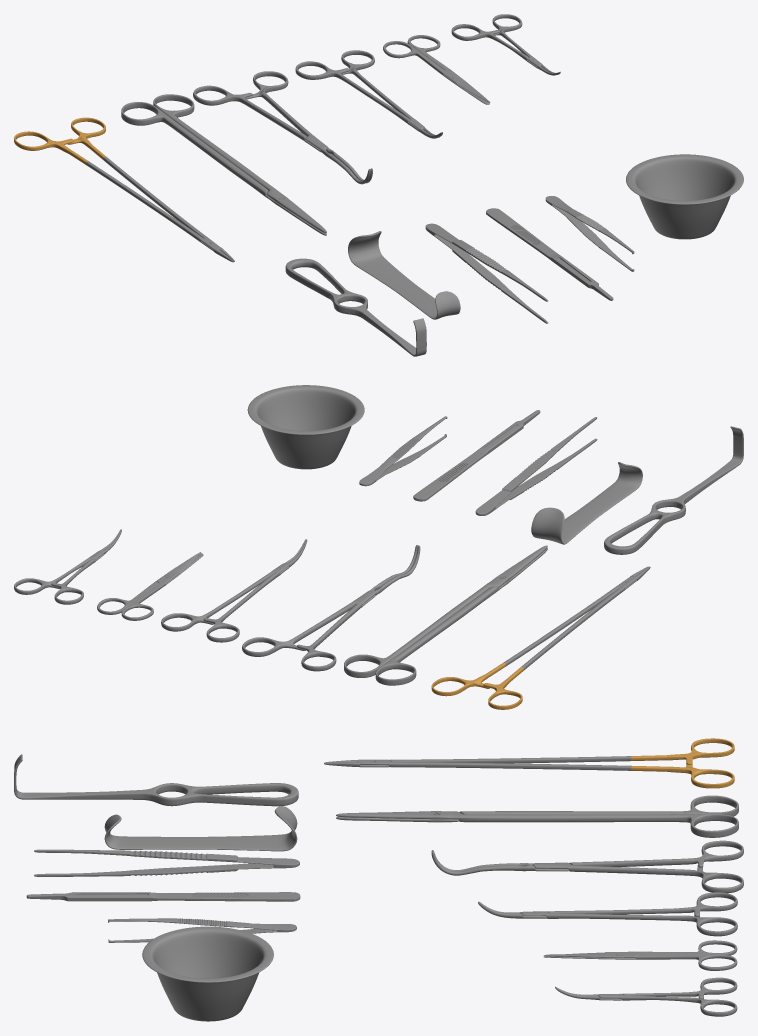
The model's file is all instruments.fbx.
3 renders of one model, top to bottom at view 1: azimuth 30°, elevation 25°; view 2: azimuth 150°, elevation 25°; view 3: azimuth 270°, elevation 25°, orthographic. The views are drawn at different scales.
Visible parts, largest first — view 1: Bowl, Dissection Scissors Metzenbaum, Retractor Roux, Needle holder DeBakey, Ligature clamp De Bakey, Retractor Langenbeck, Atraumatic tweezers DeBakey, Clamp Overholt-Geissend, Scalpel handle Nr. 3, Surgical scissors, Surgical Tweezers, Peritoneum clamp Baby-Mikulicz; view 2: Bowl, Dissection Scissors Metzenbaum, Retractor Roux, Needle holder DeBakey, Ligature clamp De Bakey, Retractor Langenbeck, Clamp Overholt-Geissend, Atraumatic tweezers DeBakey, Scalpel handle Nr. 3, Peritoneum clamp Baby-Mikulicz, Surgical scissors, Surgical Tweezers; view 3: Bowl, Dissection Scissors Metzenbaum, Needle holder DeBakey, Retractor Langenbeck, Ligature clamp De Bakey, Retractor Roux, Atraumatic tweezers DeBakey, Clamp Overholt-Geissend, Scalpel handle Nr. 3, Peritoneum clamp Baby-Mikulicz, Surgical scissors, Surgical Tweezers.
Boxes of the visible parts, x1=… form: Bowl: x1=626, y1=154, x2=743, y2=239; Dissection Scissors Metzenbaum: x1=121, y1=94, x2=326, y2=235; Retractor Roux: x1=348, y1=231, x2=460, y2=319; Needle holder DeBakey: x1=14, y1=117, x2=234, y2=262; Ligature clamp De Bakey: x1=193, y1=71, x2=372, y2=184; Retractor Langenbeck: x1=285, y1=258, x2=426, y2=356; Atraumatic tweezers DeBakey: x1=425, y1=223, x2=548, y2=323; Clamp Overholt-Geissend: x1=295, y1=50, x2=442, y2=138; Scalpel handle Nr. 3: x1=486, y1=208, x2=613, y2=300; Surgical scissors: x1=383, y1=35, x2=490, y2=104; Surgical Tweezers: x1=545, y1=196, x2=634, y2=271; Peritoneum clamp Baby-Mikulicz: x1=451, y1=14, x2=560, y2=75; Bowl: x1=247, y1=385, x2=364, y2=469; Dissection Scissors Metzenbaum: x1=344, y1=545, x2=547, y2=685; Retractor Roux: x1=531, y1=462, x2=642, y2=544; Needle holder DeBakey: x1=431, y1=566, x2=650, y2=709; Ligature clamp De Bakey: x1=242, y1=545, x2=420, y2=671; Retractor Langenbeck: x1=604, y1=426, x2=743, y2=554; Clamp Overholt-Geissend: x1=161, y1=539, x2=307, y2=642; Atraumatic tweezers DeBakey: x1=475, y1=417, x2=597, y2=515; Scalpel handle Nr. 3: x1=413, y1=410, x2=540, y2=501; Peritoneum clamp Baby-Mikulicz: x1=14, y1=529, x2=121, y2=604; Surgical scissors: x1=97, y1=552, x2=203, y2=620; Surgical Tweezers: x1=359, y1=416, x2=447, y2=486; Bowl: x1=142, y1=926, x2=273, y2=1021; Dissection Scissors Metzenbaum: x1=336, y1=795, x2=738, y2=837; Needle holder DeBakey: x1=324, y1=738, x2=734, y2=788; Retractor Langenbeck: x1=14, y1=754, x2=298, y2=806; Ligature clamp De Bakey: x1=431, y1=840, x2=743, y2=893; Retractor Roux: x1=104, y1=806, x2=297, y2=851; Atraumatic tweezers DeBakey: x1=34, y1=849, x2=299, y2=876; Clamp Overholt-Geissend: x1=478, y1=892, x2=737, y2=936; Scalpel handle Nr. 3: x1=26, y1=892, x2=300, y2=901; Peritoneum clamp Baby-Mikulicz: x1=555, y1=977, x2=737, y2=1016; Surgical scissors: x1=543, y1=940, x2=737, y2=970; Surgical Tweezers: x1=108, y1=918, x2=296, y2=942.
Size of the model in its own units: 49.9 by 5.12 by 56.08.
